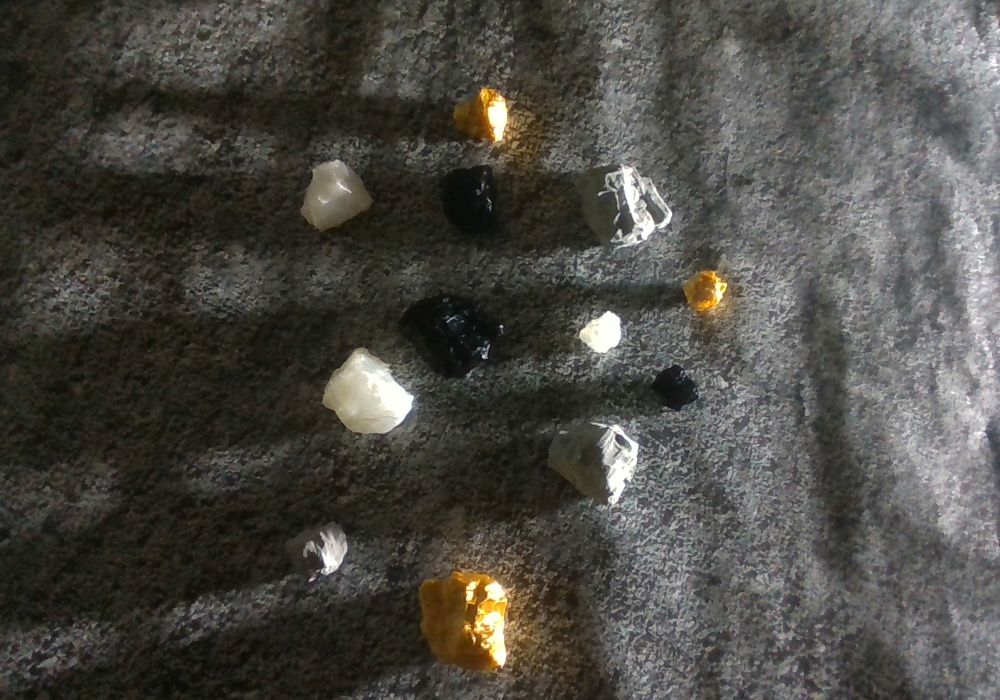anorthosite: (321, 346, 413, 434), (301, 159, 373, 232), (579, 311, 622, 353)
basalt: (397, 291, 503, 379), (440, 164, 499, 235), (649, 363, 703, 409)
metal: (417, 570, 507, 673), (452, 88, 509, 143), (684, 268, 727, 313)
regolith: (575, 162, 672, 251), (546, 421, 638, 507), (284, 521, 351, 582)
